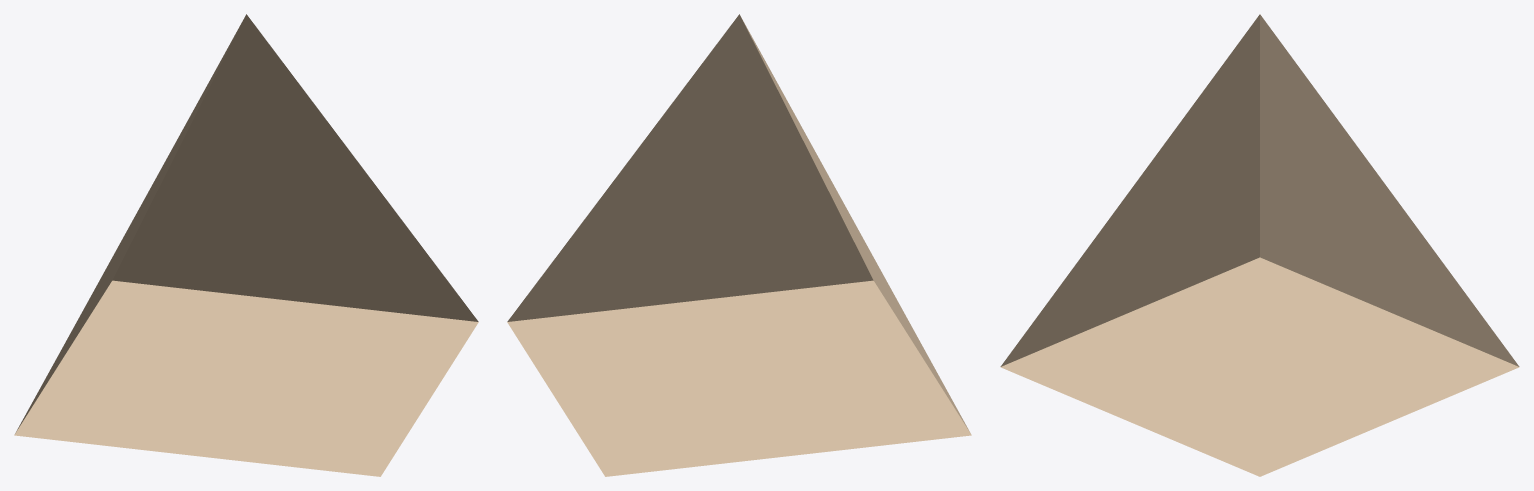
3 renders of one model, left to right at view 1: azimuth 30°, elevation 25°; view 2: azimuth 150°, elevation 25°; view 3: azimuth 270°, elevation 25°, orthographic. The views are drawn at different scales.
Parts seen in each view (by area): view 1: pyramid; view 2: pyramid; view 3: pyramid.
Boxes of the visible parts, bbox=[...] form: pyramid: bbox=[14, 14, 478, 476]; pyramid: bbox=[507, 14, 971, 476]; pyramid: bbox=[1000, 14, 1519, 476].
Bounding box in the file's own units: 1.6 × 1.2 × 1.6.
